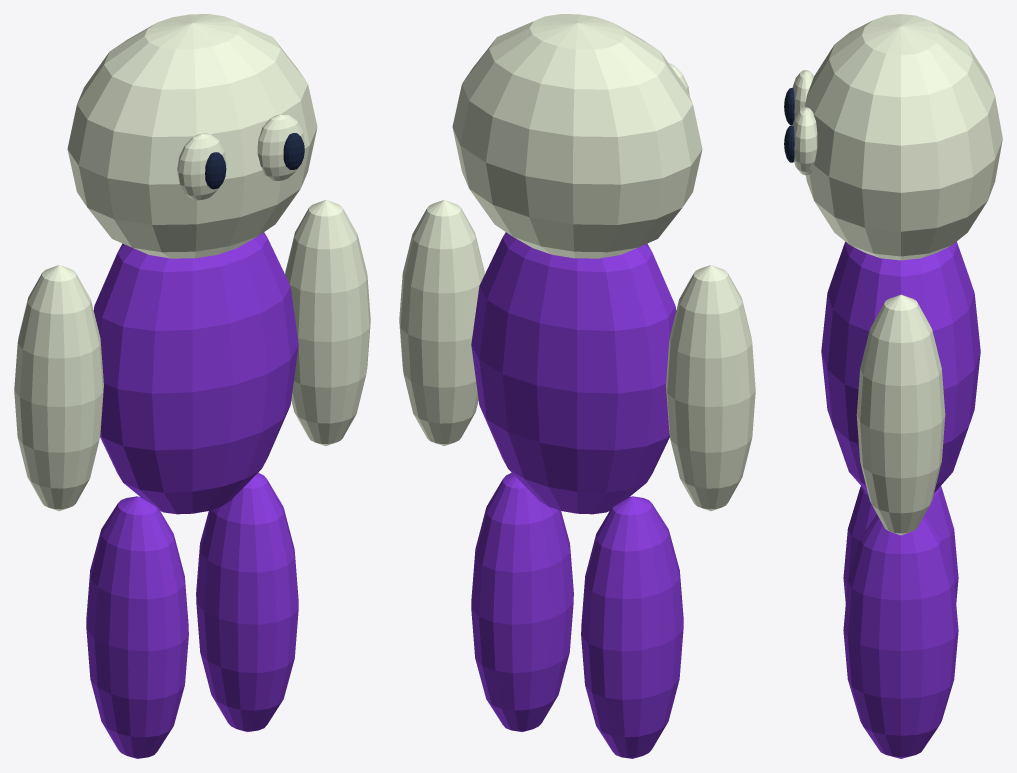
The model's file is bloomy.glb.
3 views of the same model, side by side, from view 1: azimuth 30°, elevation 25°; view 2: azimuth 150°, elevation 25°; view 3: azimuth 270°, elevation 25° (orthographic). The views are drawn at different scales.
Parts seen in each view (by area): view 1: GY_bloomy_body_LOD0, GY_bloomy_head_LOD0, GY_bloomy_legL_LOD0, GY_bloomy_legR_LOD0, GY_bloomy_armL_LOD0, GY_bloomy_armR_LOD0, GY_bloomy_eyeL_LOD0, GY_bloomy_eyeR_LOD0, GY_bloomy_pupilR_LOD0, GY_bloomy_pupilL_LOD0; view 2: GY_bloomy_head_LOD0, GY_bloomy_body_LOD0, GY_bloomy_legL_LOD0, GY_bloomy_legR_LOD0, GY_bloomy_armL_LOD0, GY_bloomy_armR_LOD0; view 3: GY_bloomy_head_LOD0, GY_bloomy_legR_LOD0, GY_bloomy_body_LOD0, GY_bloomy_armR_LOD0, GY_bloomy_legL_LOD0, GY_bloomy_eyeR_LOD0, GY_bloomy_eyeL_LOD0.
Boxes of the visible parts, x1,y1,x2,y2 form: GY_bloomy_body_LOD0: (93,232,298,514); GY_bloomy_head_LOD0: (67,14,317,258); GY_bloomy_legL_LOD0: (86,496,188,758); GY_bloomy_legR_LOD0: (196,472,298,731); GY_bloomy_armL_LOD0: (14,265,103,511); GY_bloomy_armR_LOD0: (285,200,370,445); GY_bloomy_eyeL_LOD0: (177,133,226,200); GY_bloomy_eyeR_LOD0: (257,114,304,180); GY_bloomy_pupilR_LOD0: (283,133,304,169); GY_bloomy_pupilL_LOD0: (205,152,226,189); GY_bloomy_head_LOD0: (452,14,702,258); GY_bloomy_body_LOD0: (471,232,676,514); GY_bloomy_legL_LOD0: (581,496,683,758); GY_bloomy_legR_LOD0: (471,472,573,731); GY_bloomy_armL_LOD0: (666,265,755,511); GY_bloomy_armR_LOD0: (399,200,484,445); GY_bloomy_head_LOD0: (805,14,1002,260); GY_bloomy_legR_LOD0: (843,514,958,758); GY_bloomy_body_LOD0: (821,241,980,493); GY_bloomy_armR_LOD0: (856,294,945,535); GY_bloomy_legL_LOD0: (843,486,958,603); GY_bloomy_eyeR_LOD0: (792,107,817,175); GY_bloomy_eyeL_LOD0: (792,70,813,117).
Bounding box in the file's own units: 0.88 × 1.76 × 0.494.
